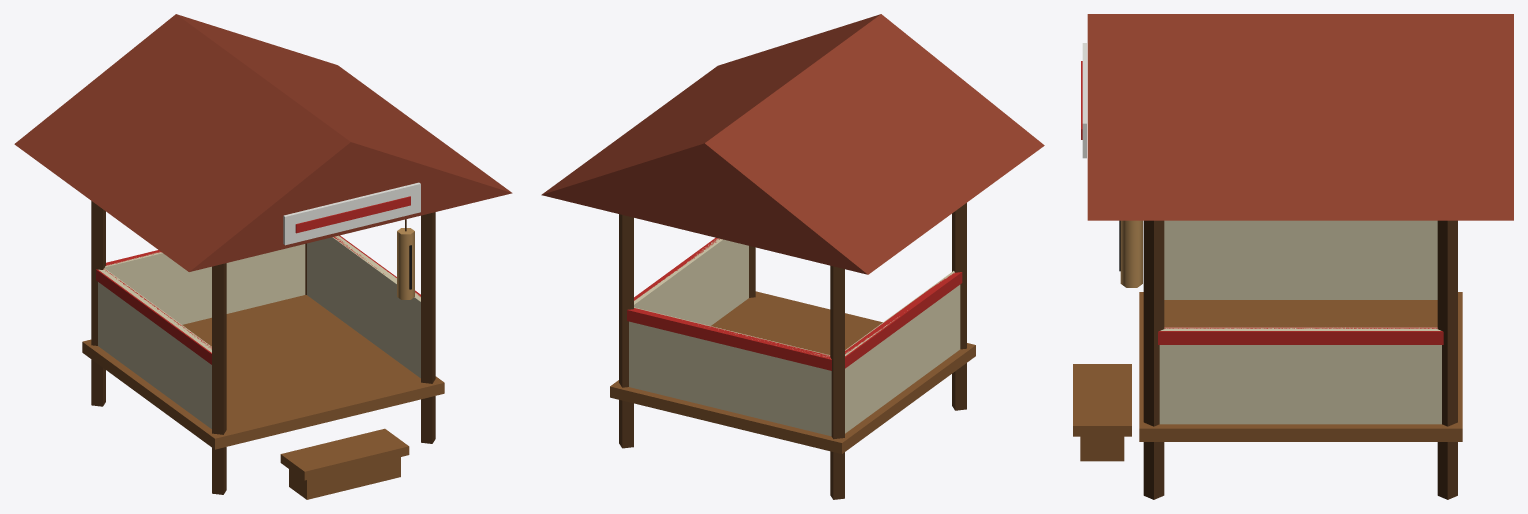
The model's file is pos_ronda.glb.
The picture shows the model from 3 angles, left to right: view 1: azimuth 30°, elevation 25°; view 2: azimuth 150°, elevation 25°; view 3: azimuth 270°, elevation 25°; orthographic projection. The views are drawn at different scales.
Visible parts, largest first — view 1: body; view 2: body; view 3: body.
Boxes of the visible parts, box(x1,y1,x2,y2) form: body: box(14, 14, 512, 499); body: box(541, 14, 1044, 499); body: box(1073, 14, 1513, 499).
Bounding box in the file's own units: 3.1 × 3.15 × 3.
